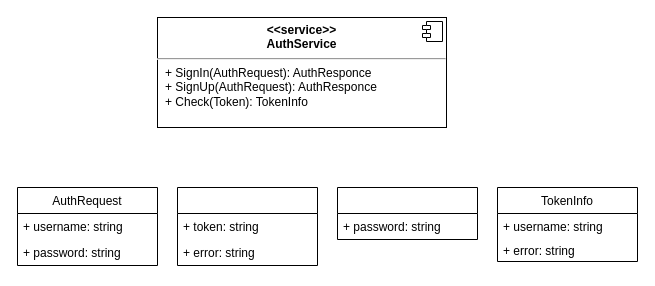
This 655x286 diagram has some shape labels left out. The box of each missing label's shape, as (x1, y1, x2, y2) in pixels:
AuthResponce: (176, 186, 318, 266)
Token: (336, 186, 478, 240)
